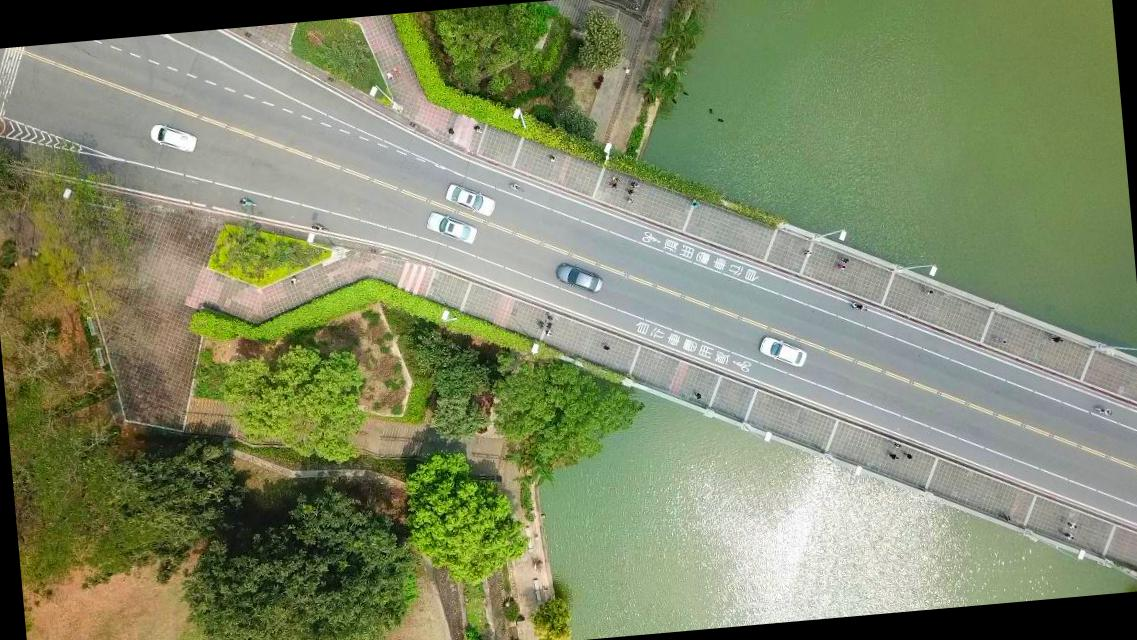vehicle: (424, 208, 478, 248), (757, 332, 808, 373), (444, 181, 496, 220), (554, 259, 604, 298), (150, 121, 200, 158)
